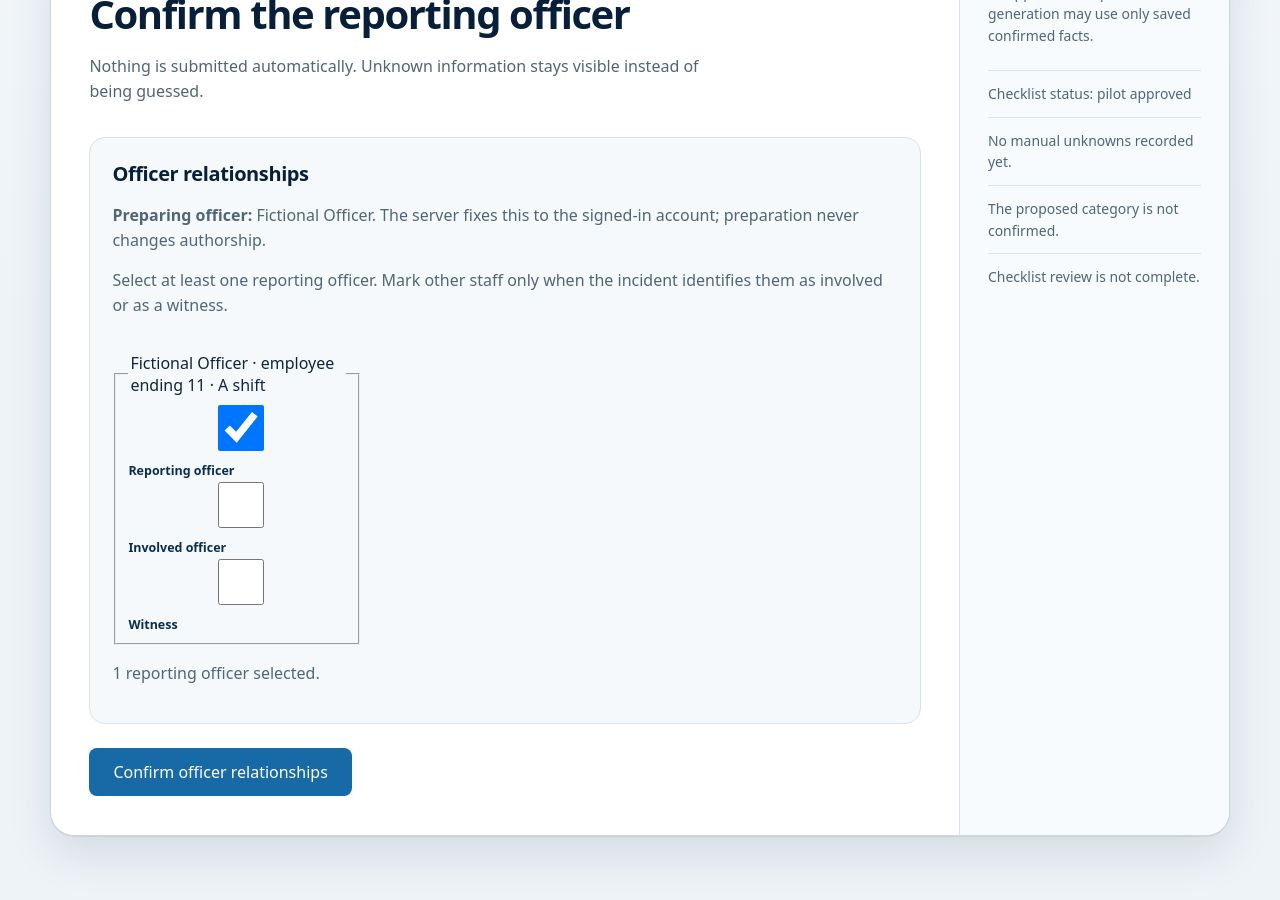
Test case: NewIncidentWorkspace › keeps AI category and fact suggestions pending for officer review
(page scrolled)
Click the button "Confirm officer relationships" at [221, 772], box [89,748,352,796]
(page scrolled)
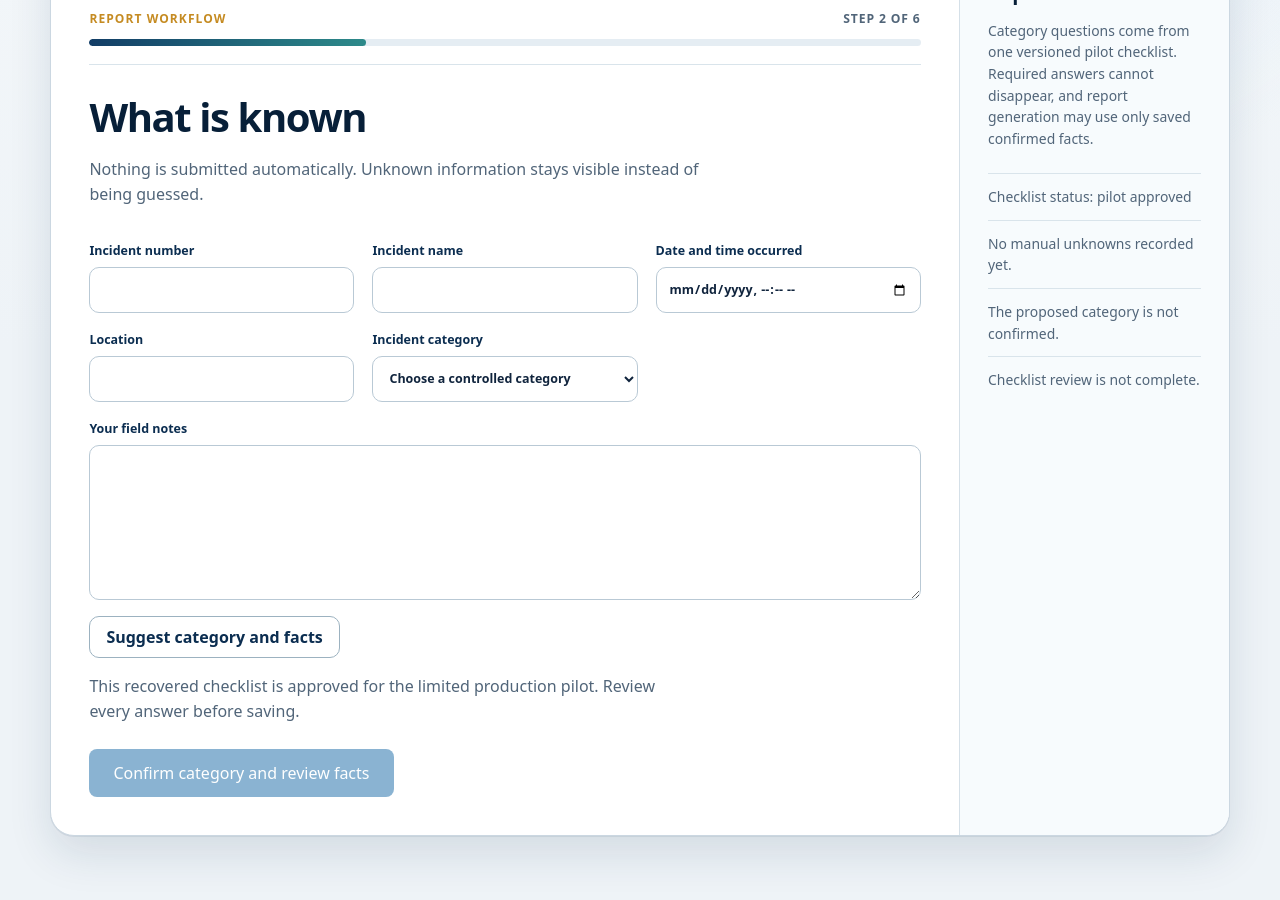
Type "FICTIONAL-102" into the field labelled "Incident number" at [222, 290], box [89,267,354,313]
Type "AI training" into the field labelled "Incident name" at [505, 290], box [372,267,638,313]
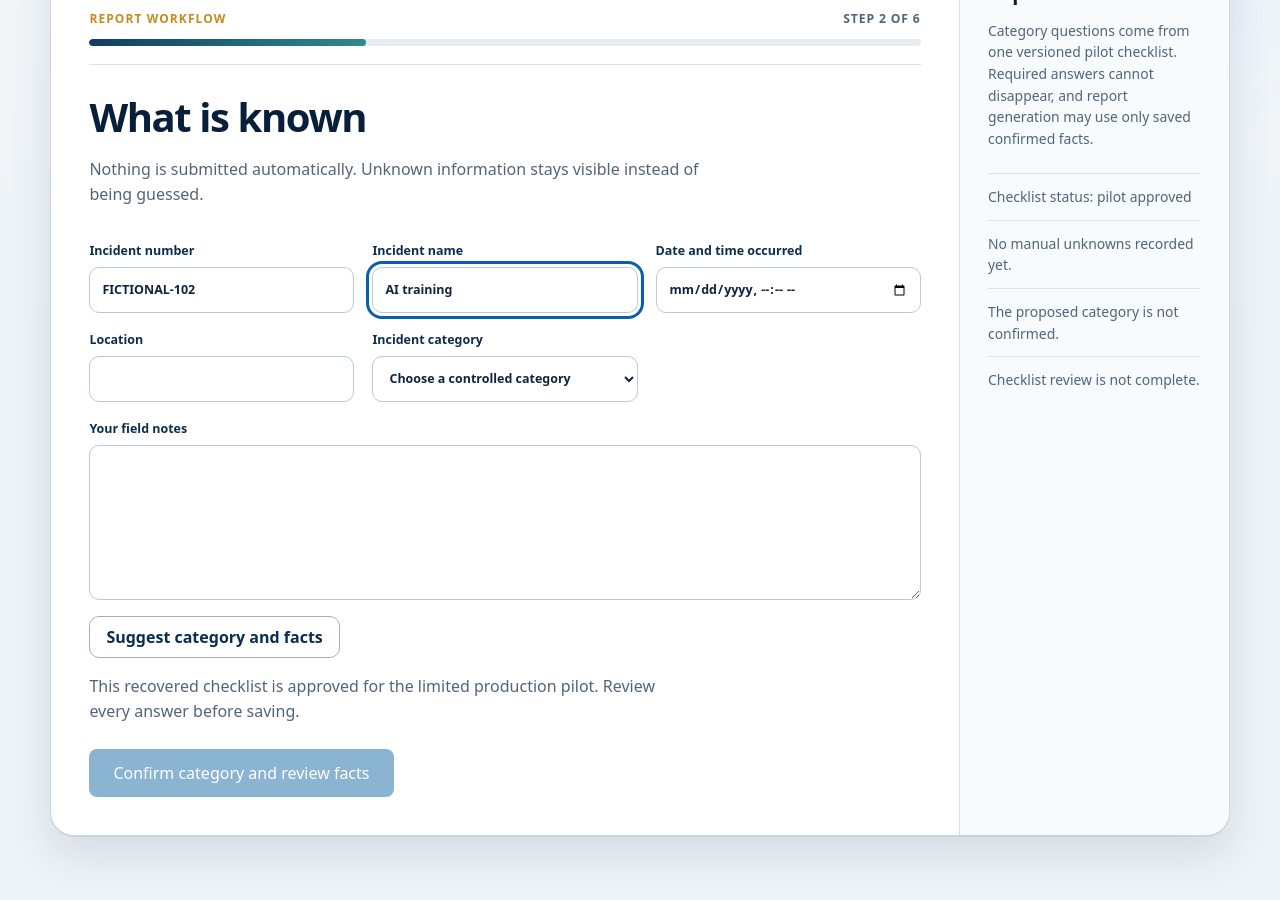
Type "2026-08-27T13:00" into the field labelled "Date and time occurred" at [788, 290], box [656,267,921,313]
Type "Training room" into the field labelled "Location" at [222, 379], box [89,356,354,402]
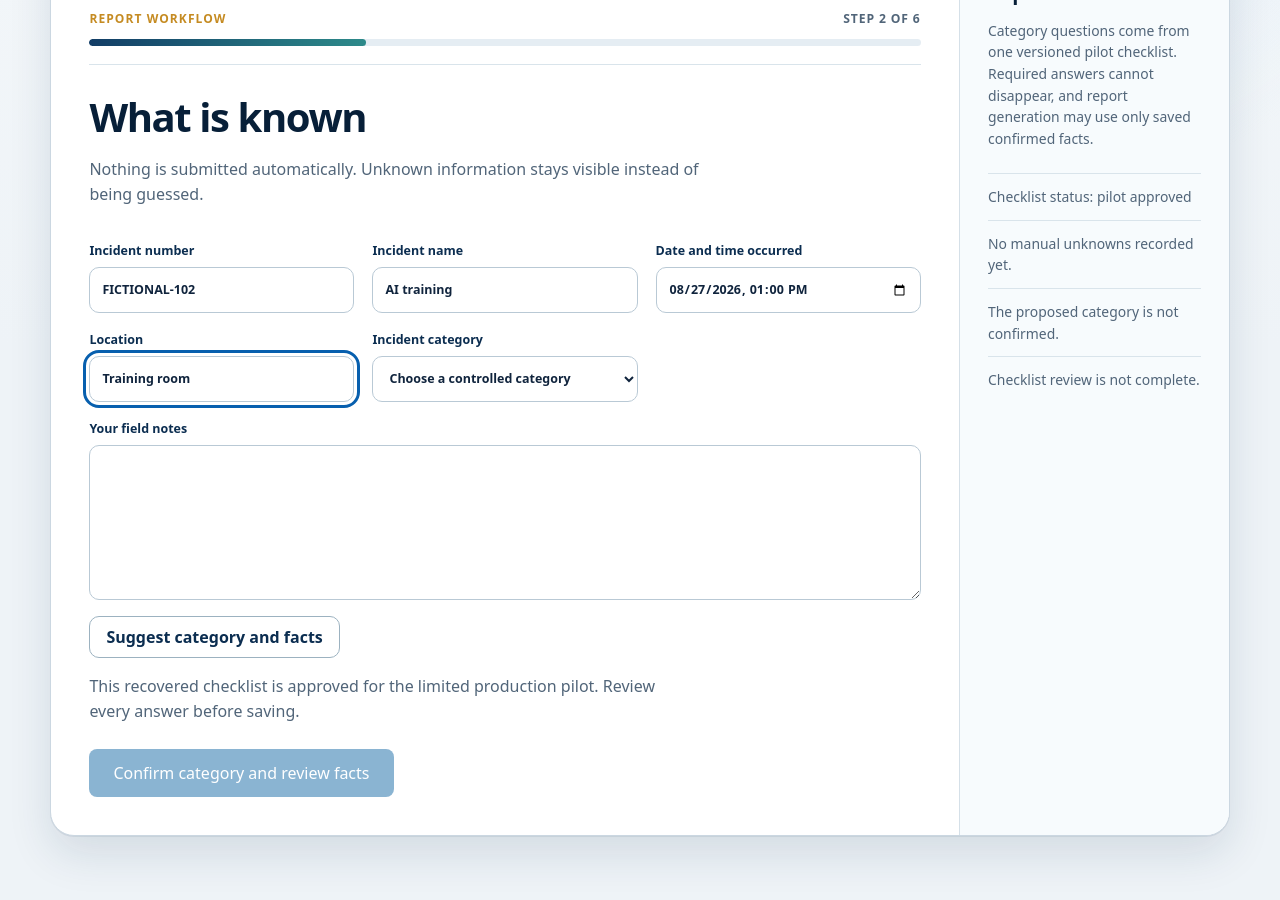
Type "Fictional raw training note." into the text box labelled "Your field notes" at [505, 522], box [89,445,921,600]
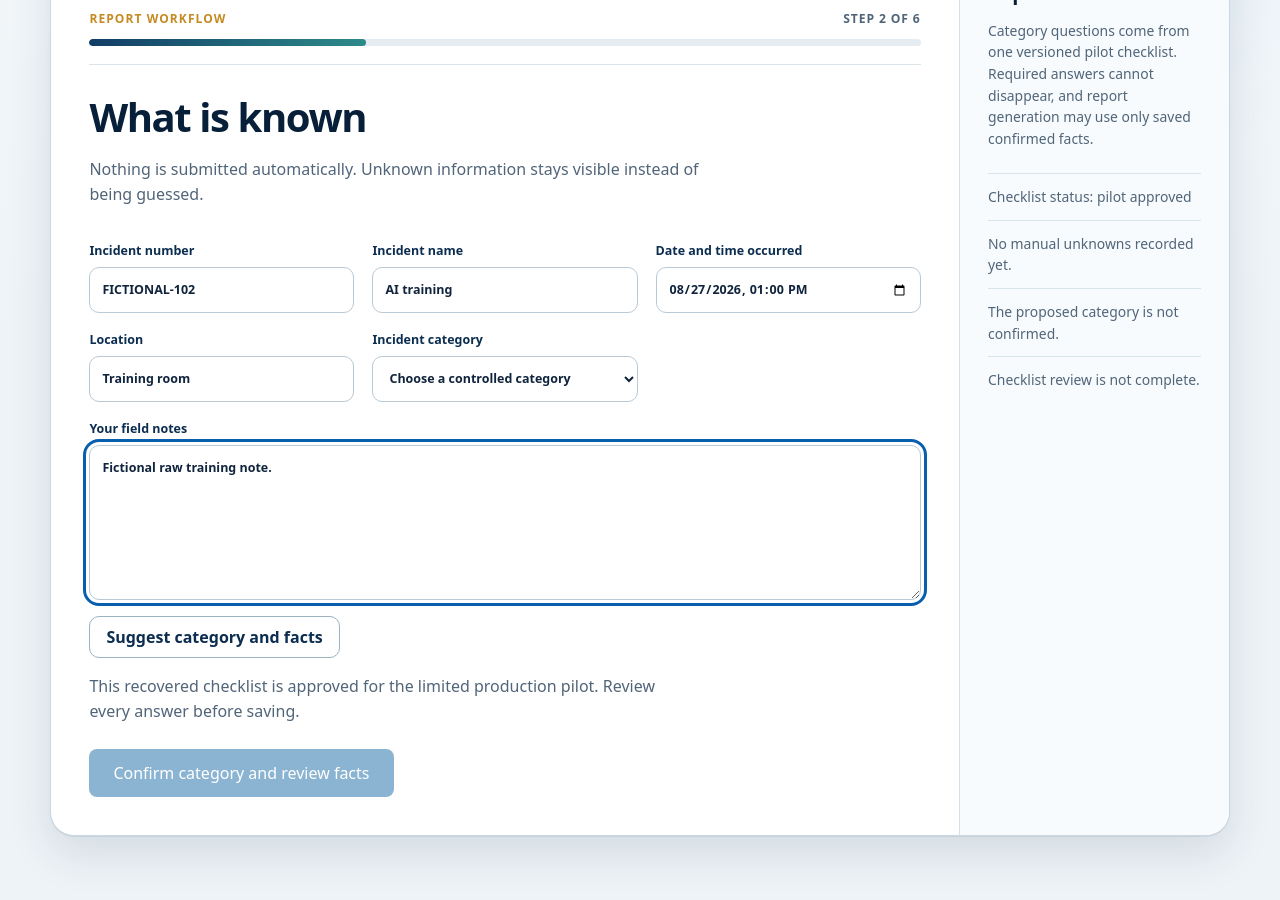
Click the button "Suggest category and facts" at [215, 637], box [89,616,340,658]
(page scrolled)
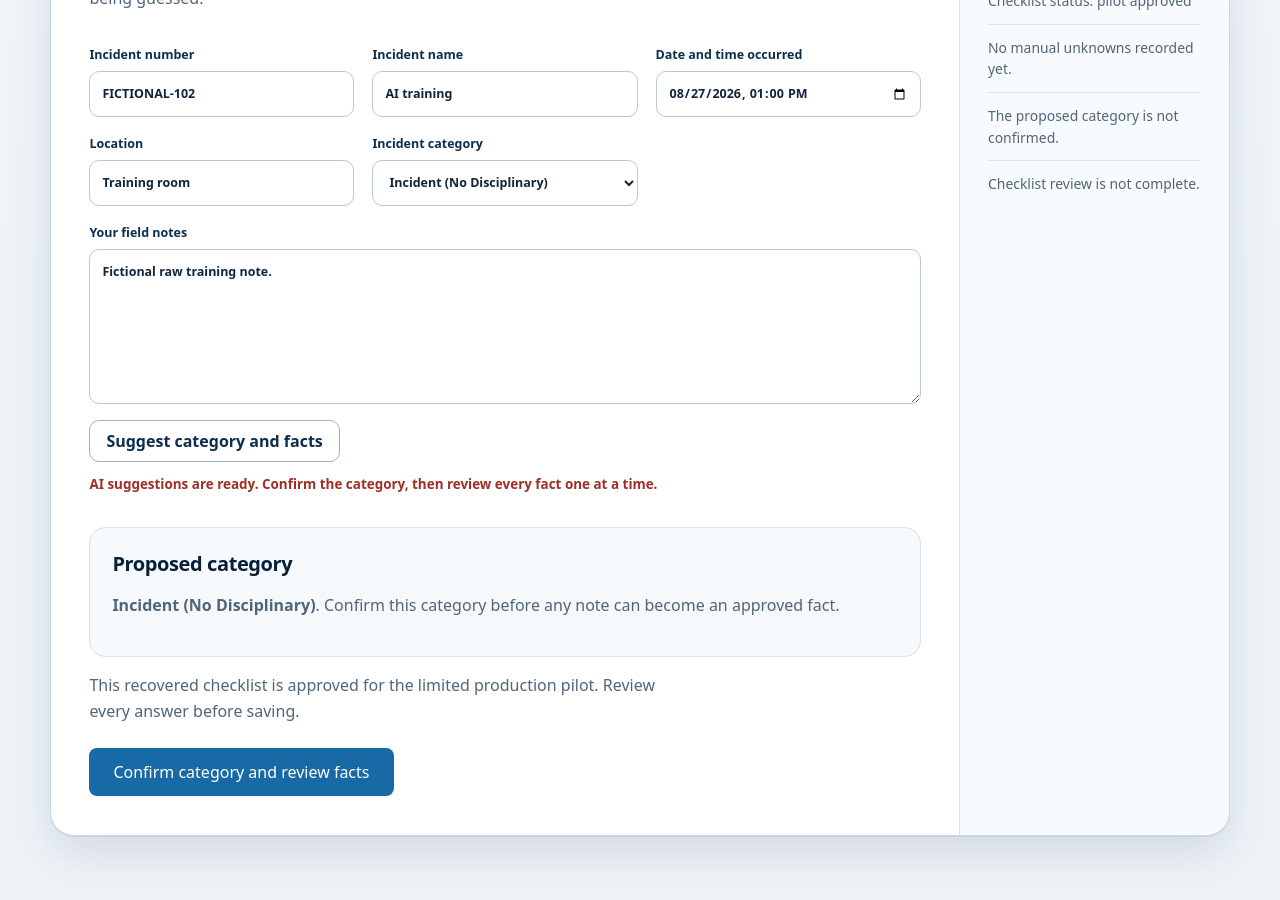
Expected: the text "AI suggestions are ready" is shown, [89,475,658,493]
Expected: the dropdown labelled "Incident category" shows "Incident (No Disciplinary)", [372,160,638,206]
Click the button "Confirm category and review facts" at [241, 772], box [89,748,394,796]
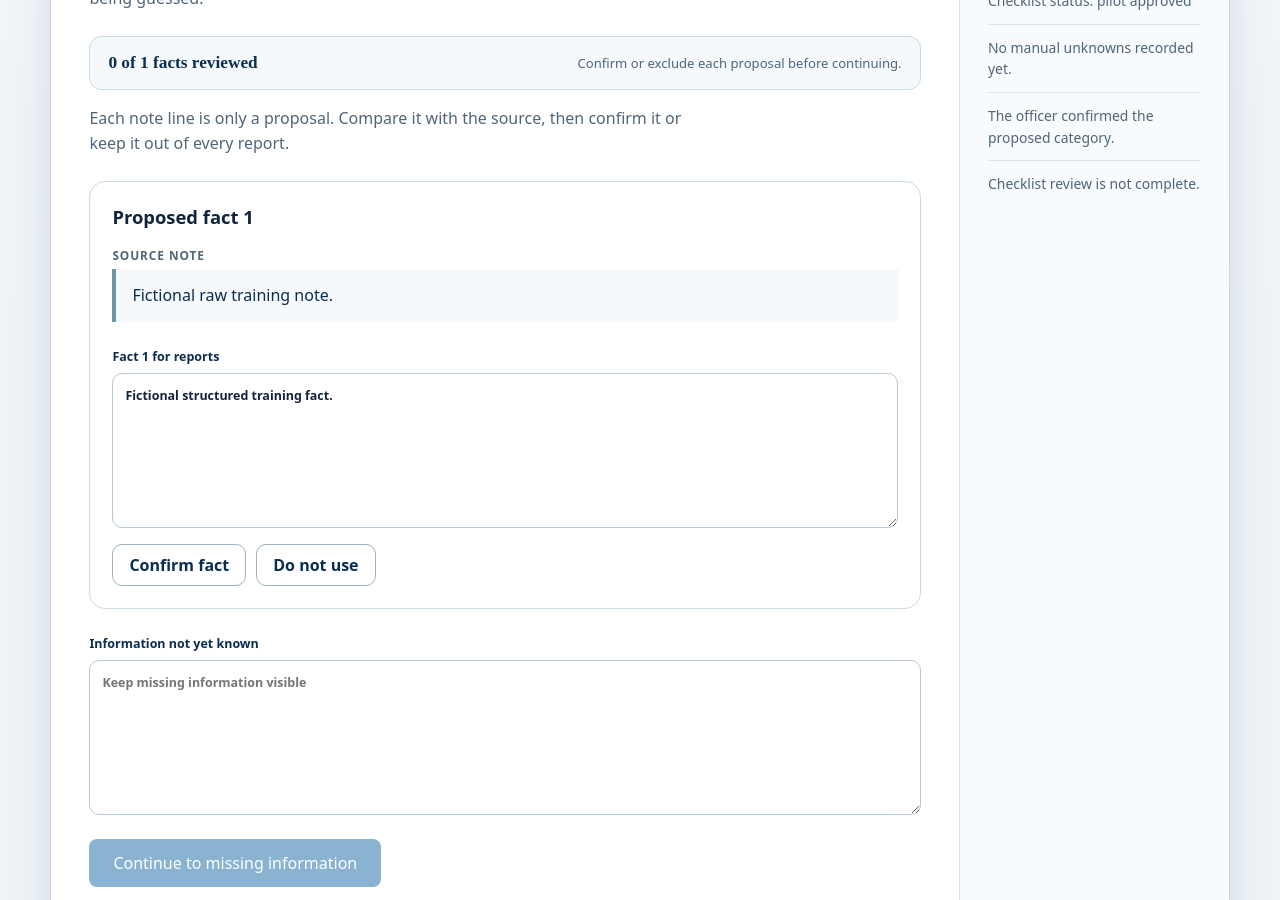
Expected: the text box showing "Fictional structured training fact." is shown, [112,373,898,528]
